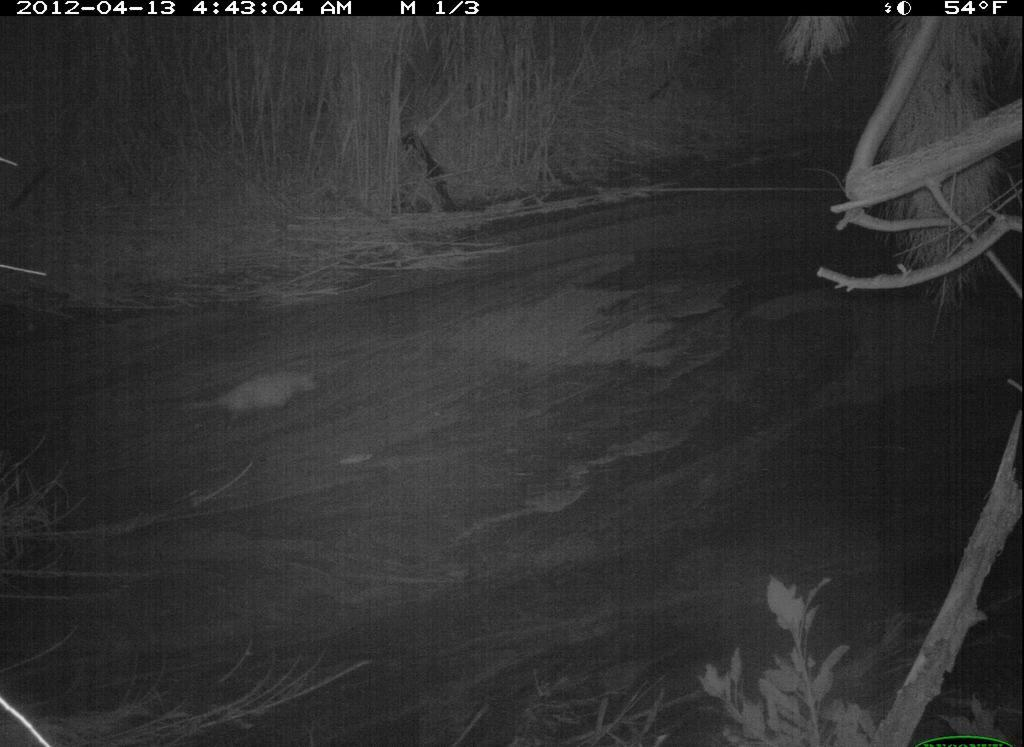opossum: (173, 359, 329, 432)
